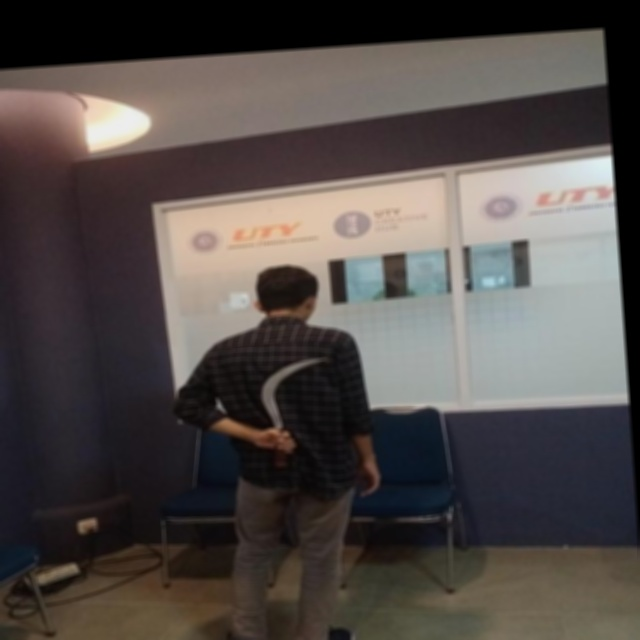Sharp-Object: (238, 351, 340, 462)
